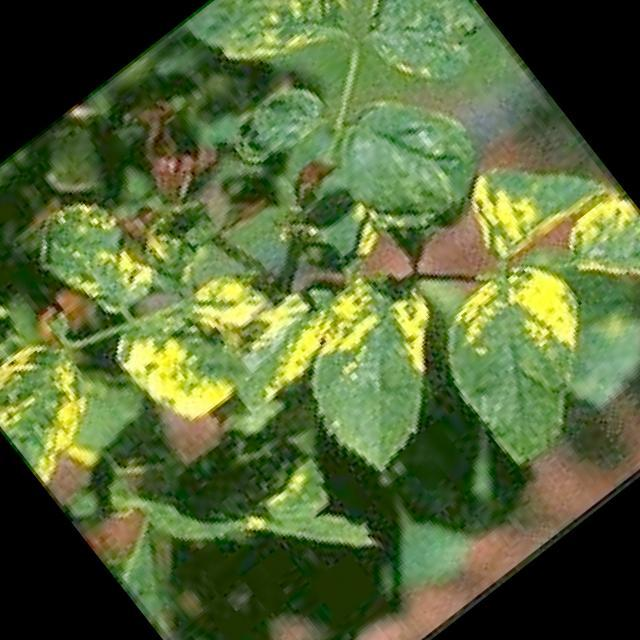Tomato mosaic virus leaf: (418, 246, 640, 477), (282, 268, 496, 482), (92, 229, 307, 440), (314, 68, 498, 250), (447, 110, 620, 276), (9, 178, 175, 348), (0, 324, 126, 490), (180, 0, 362, 110), (338, 0, 498, 114), (556, 186, 640, 353), (220, 69, 342, 183)
